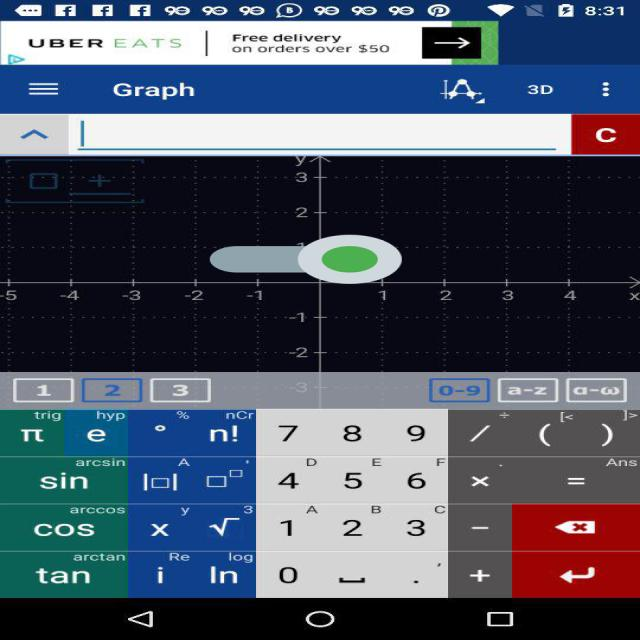social proof: (210, 214, 402, 305)
